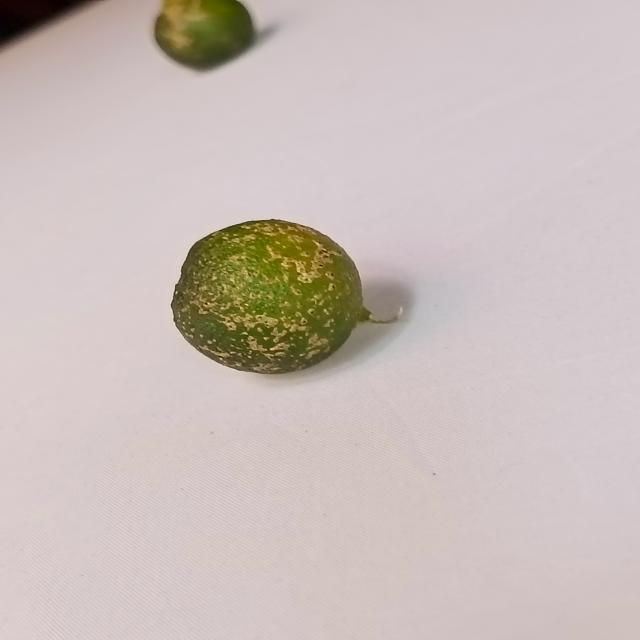scab: (170, 214, 372, 375)
